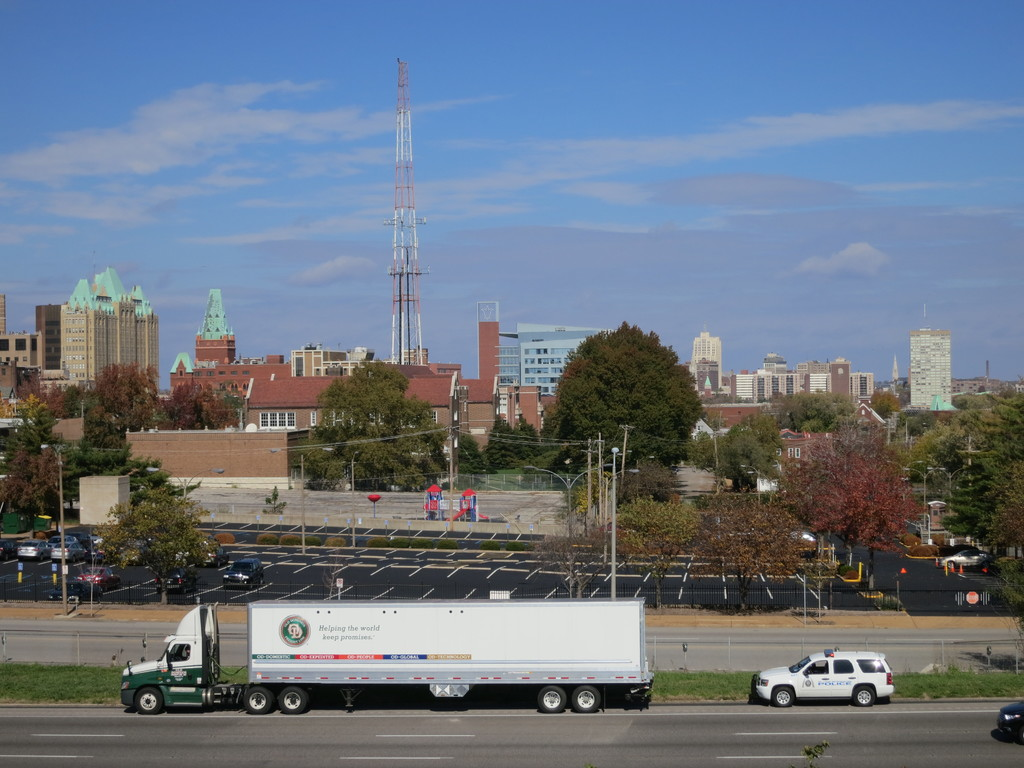Car: (748, 648, 889, 702), (943, 545, 995, 572), (999, 700, 1023, 742), (225, 560, 266, 584), (76, 567, 122, 583), (51, 545, 87, 560), (16, 541, 48, 556)
